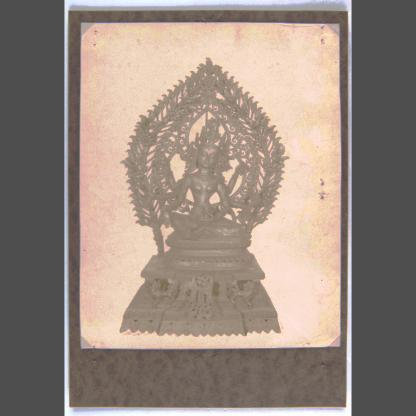buddha-sitting: (158, 114, 256, 271)
